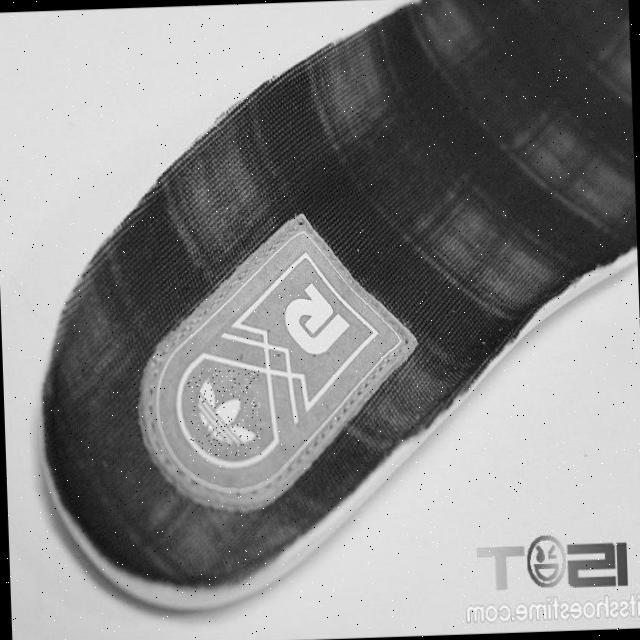Adidas: (187, 367, 262, 457)
